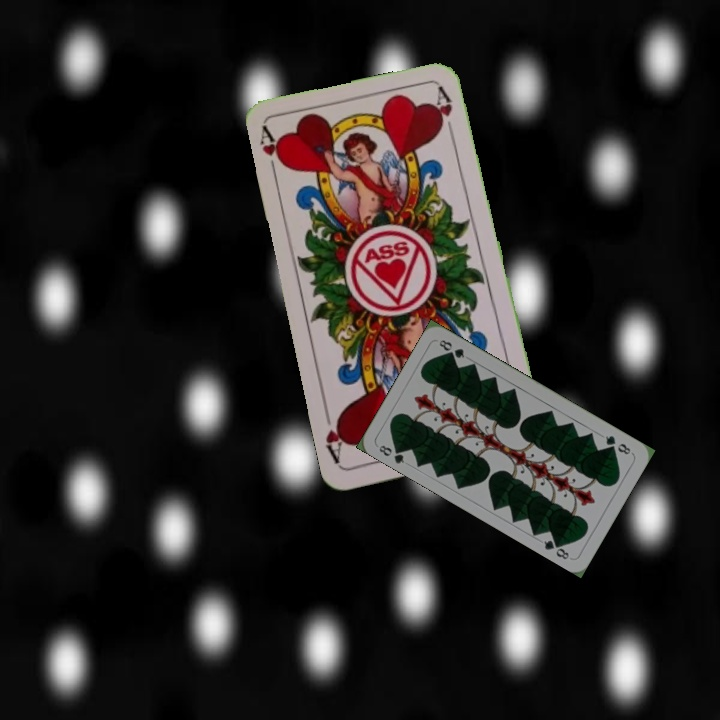G8: (601, 431, 634, 457), (375, 441, 407, 466)
HA: (256, 124, 289, 183)
